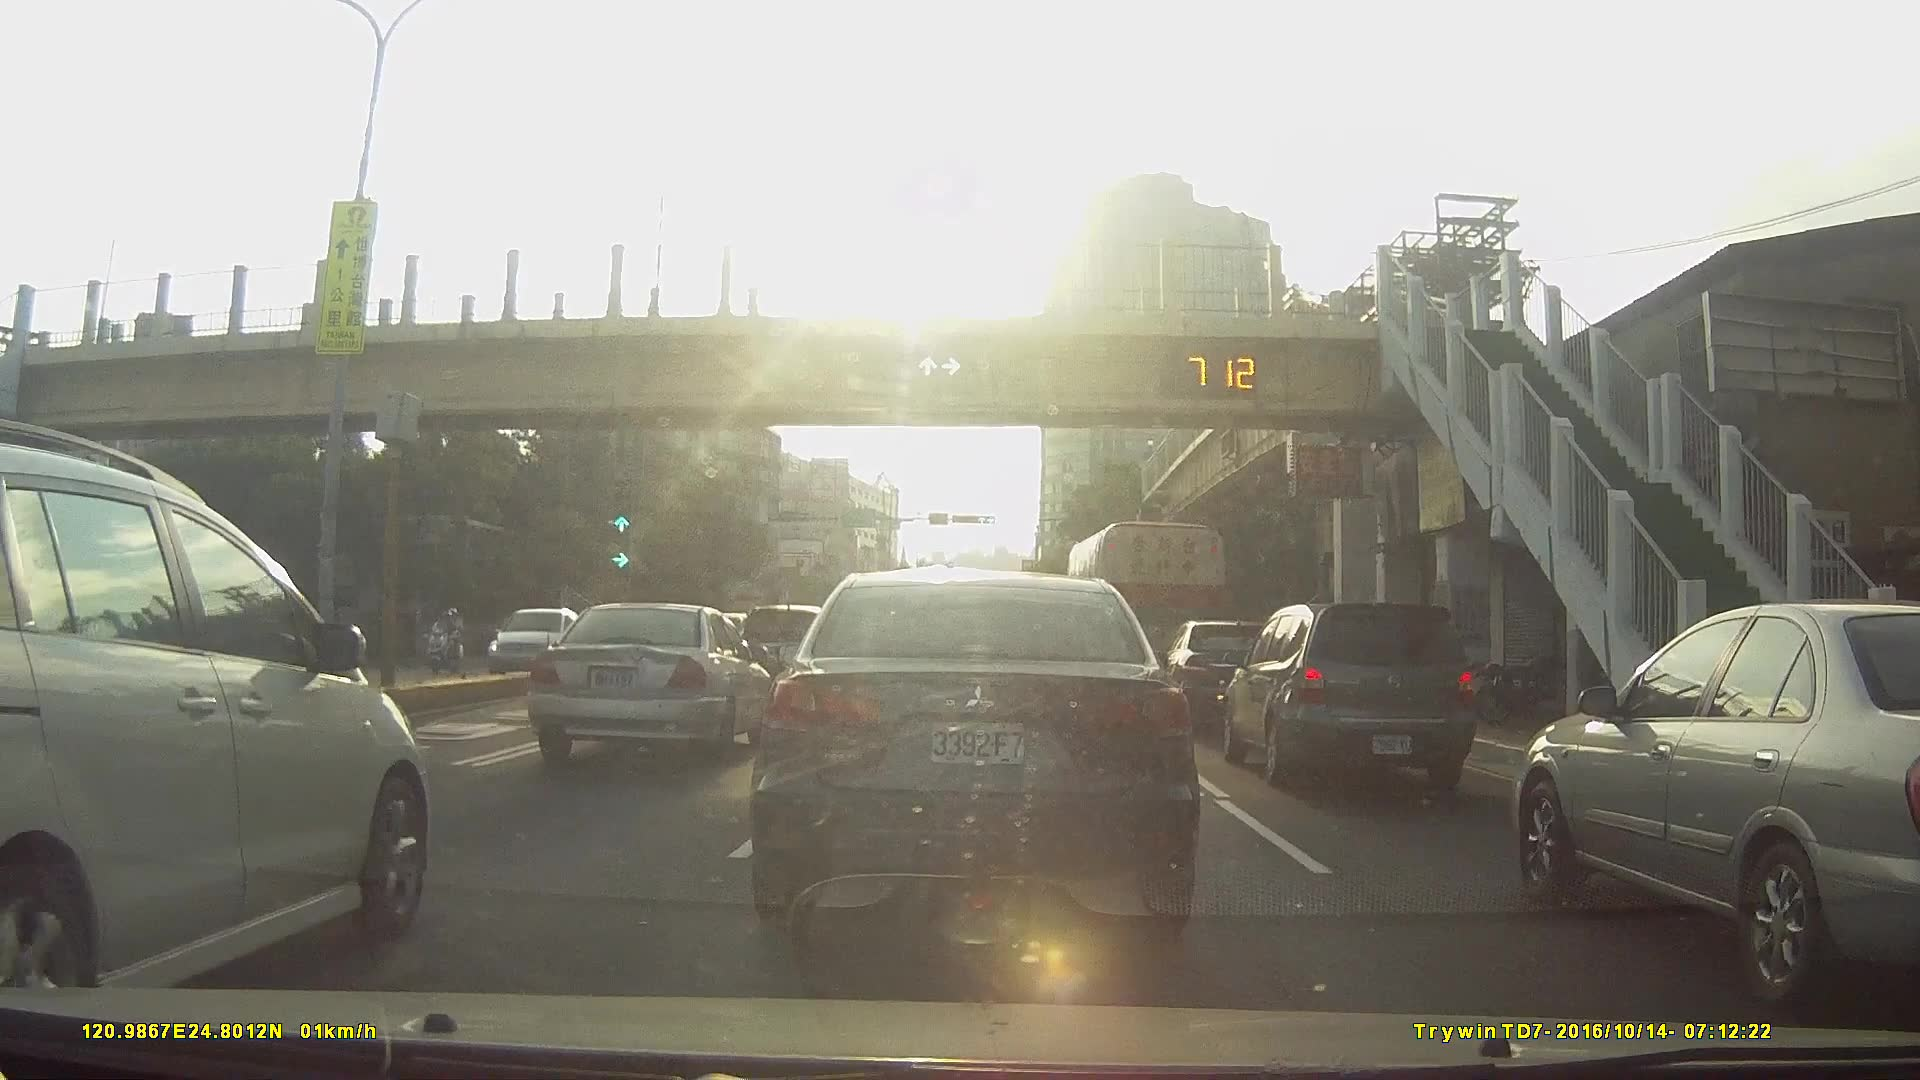rider: (425, 608, 468, 676)
vehicle: (0, 421, 444, 1026), (1515, 597, 1920, 1012), (757, 565, 1199, 943), (1221, 599, 1479, 791), (537, 602, 783, 762), (1161, 620, 1289, 725), (728, 602, 832, 704), (479, 606, 597, 675)
